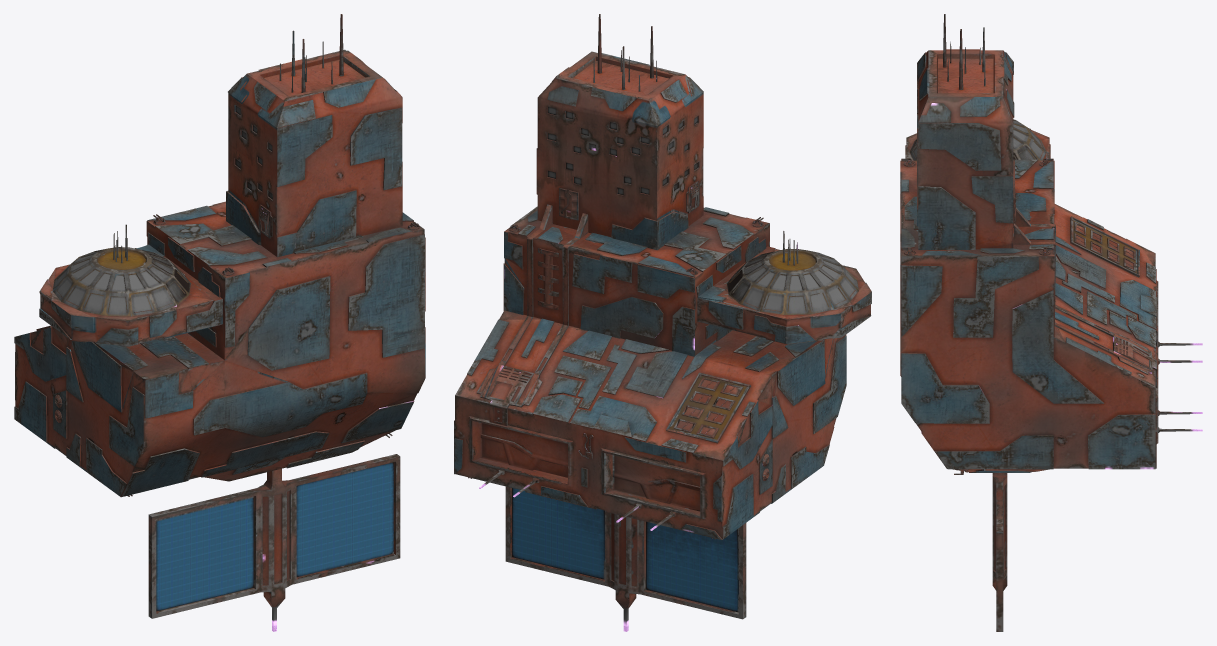
The model's file is station_orbital_complex.glb.
3 views of the same model, side by side, from view 1: azimuth 30°, elevation 25°; view 2: azimuth 150°, elevation 25°; view 3: azimuth 270°, elevation 25° (orthographic). The views are drawn at different scales.
Visible parts, largest first — view 1: space station; view 2: space station; view 3: space station.
Part boxes in pixels (x1,y1,x2,y2): space station: (14,14,425,631); space station: (454,14,871,631); space station: (900,14,1202,631).
Size of the model in its own units: 2.72 by 4.55 by 2.05.
Materials: 1 (1 with a texture image).
